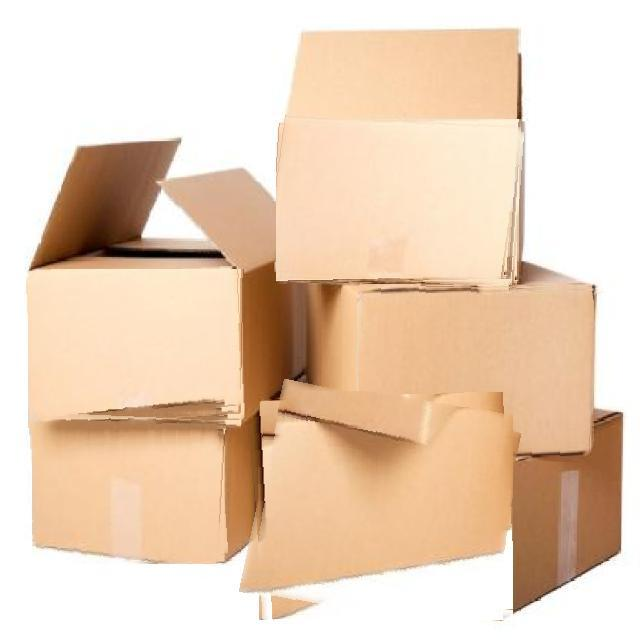BoxFace: (249, 391, 513, 631), (358, 284, 594, 461), (276, 119, 522, 284), (28, 269, 244, 428), (32, 412, 226, 564)
